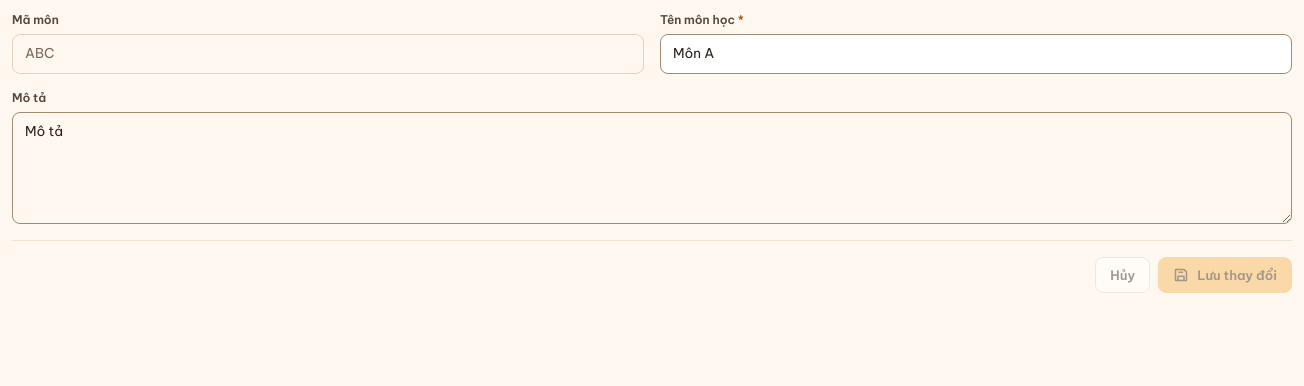
Scenario: SubjectEditForm — UC19 › lỗi401 không báo success, giữ draft, quyền bị từ chối báo parent
The width and height of the screenshot is (1304, 386).
Replace the text in the field with test id "subject-edit-name" with "Draft": (976, 54) [673,43,1279,65]
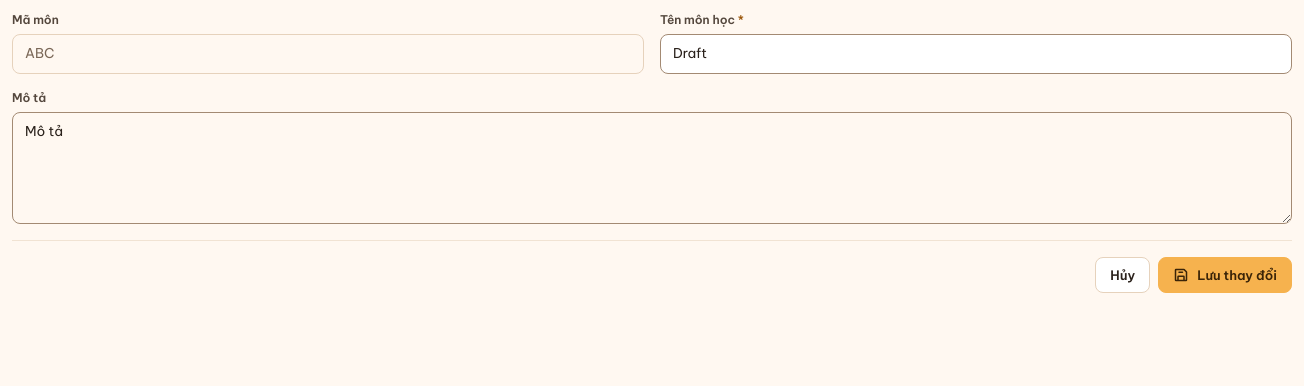
Submit the form with test id "subject-edit-form"
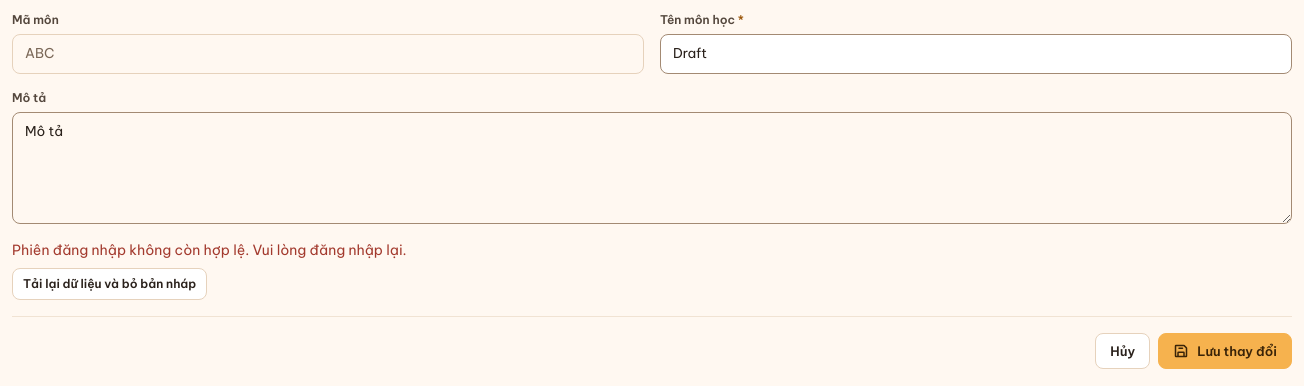
Now the message "Phiên đăng nhập không còn hợp lệ. Vui lòng đăng nhập lại." is shown, box [12,240,407,260]
